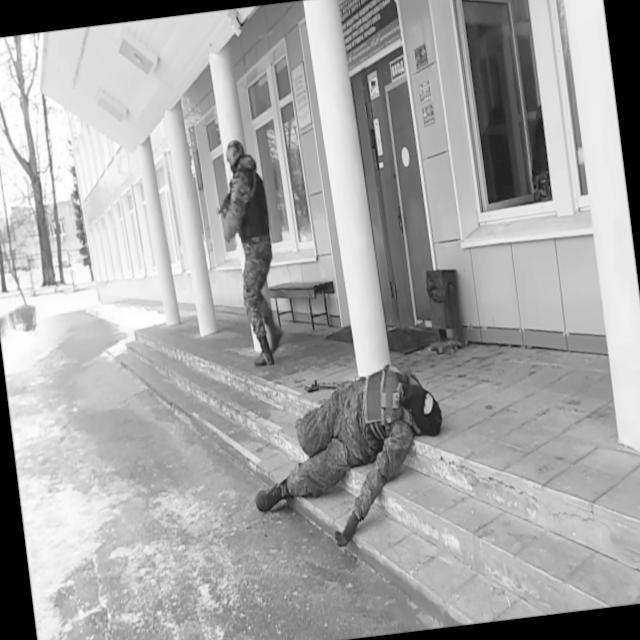gun: (212, 177, 237, 220)
person: (239, 358, 456, 557), (217, 136, 287, 368)
person with a gun: (208, 136, 287, 368)
